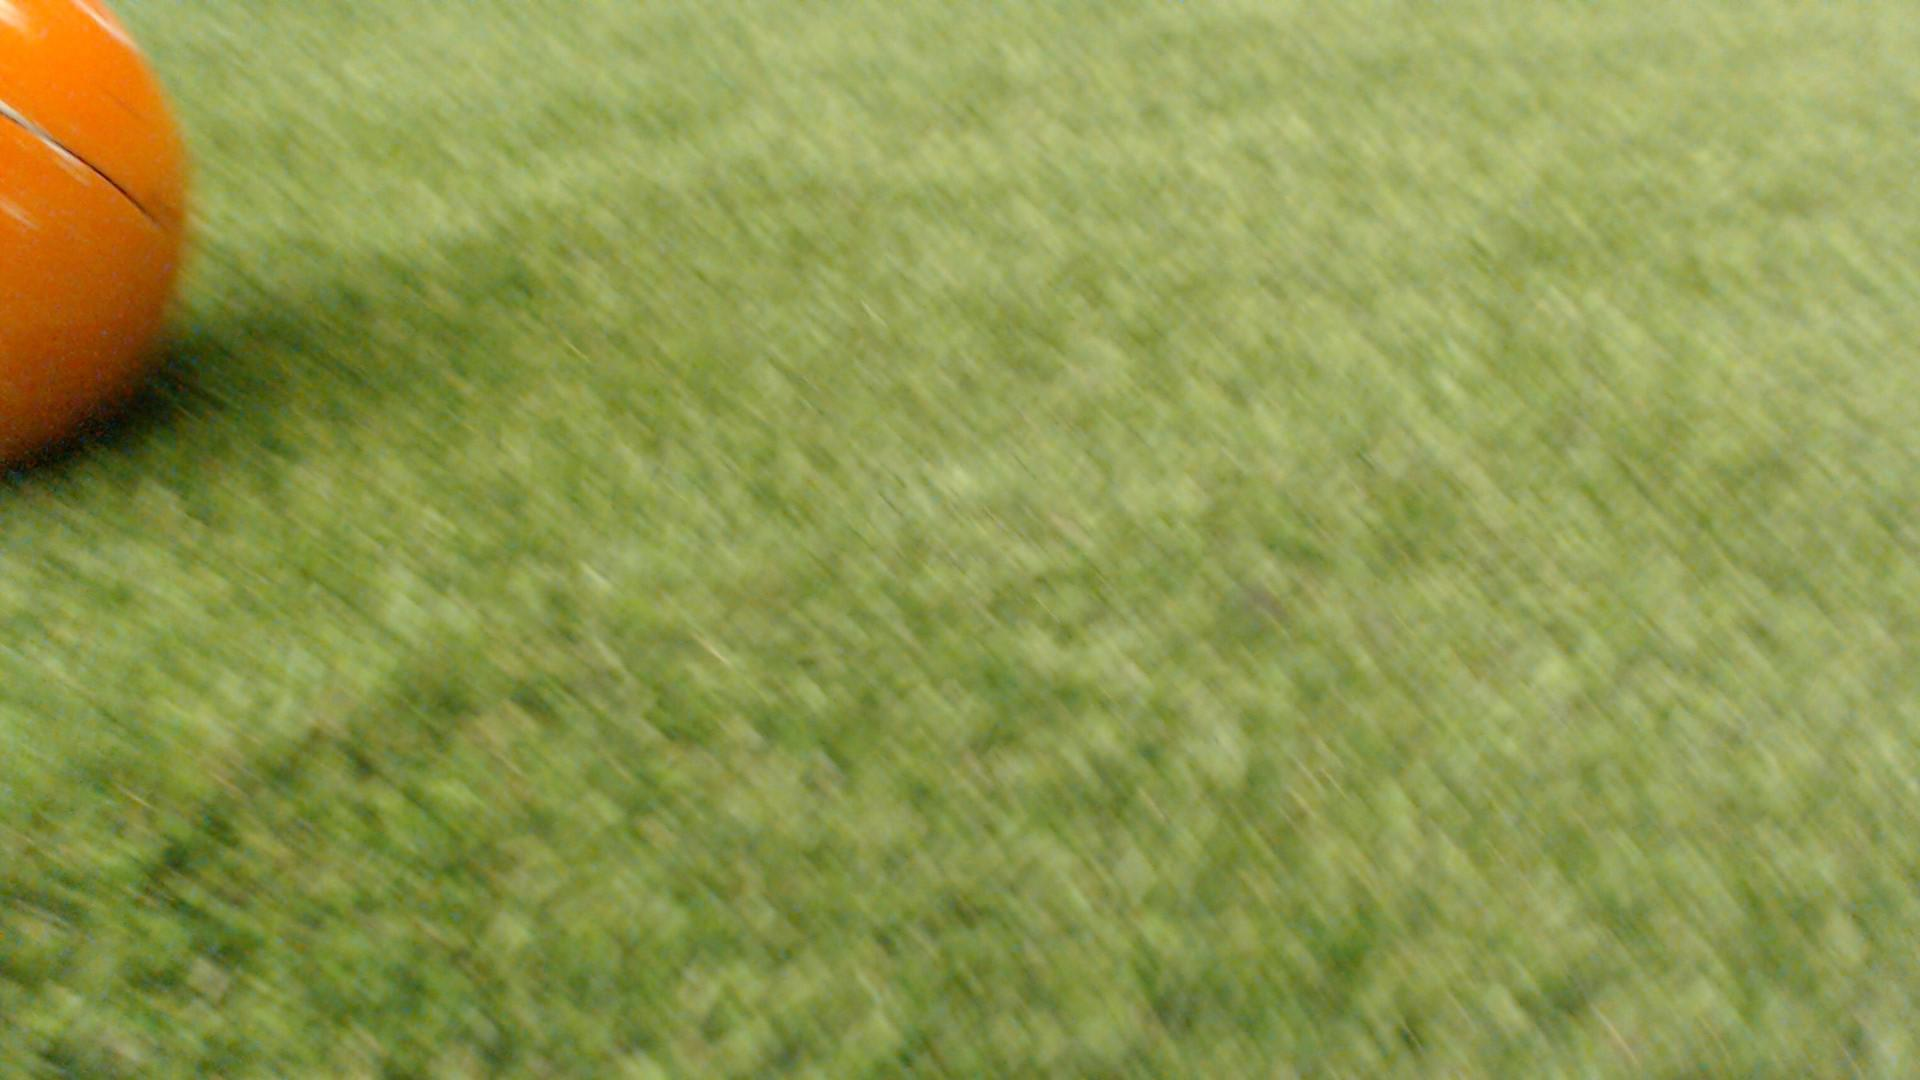bola: (0, 0, 239, 502)
